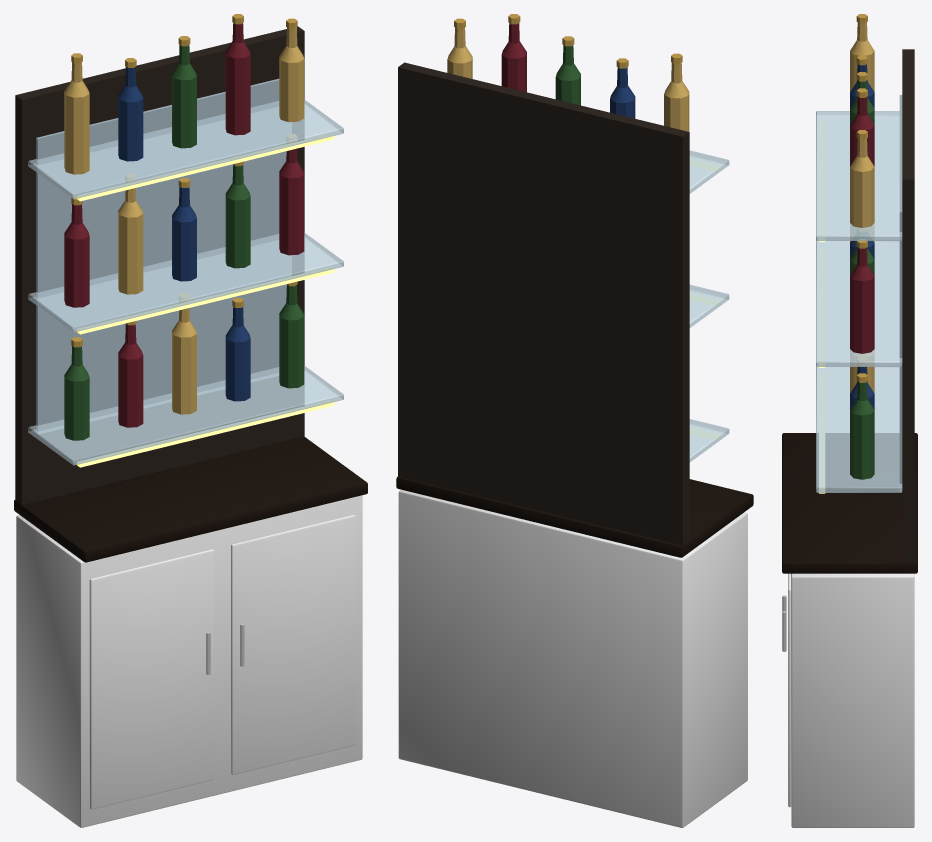
Rendered from back_bar.glb.
3 renders of one model, left to right at view 1: azimuth 30°, elevation 25°; view 2: azimuth 150°, elevation 25°; view 3: azimuth 270°, elevation 25°, orthographic. The views are drawn at different scales.
Visible parts, largest first — view 1: door, mirror, cab, board, shelf, worktop, bn.001, bn.002, bn, bn.003, strip, bc; view 2: board, cab, worktop, shelf, bn.002, bn.001, bn, bn.003; view 3: cab, shelf, worktop, board, bn.002, bn.001, bn, strip, mirror, bn.003, door, bc (+1 smaller).
Boxes of the visible parts, x1,y1,x2,y2 form: door: [89, 514, 355, 809]; mirror: [36, 78, 291, 433]; cab: [16, 495, 362, 827]; board: [15, 26, 304, 505]; shelf: [28, 99, 343, 465]; worktop: [14, 436, 367, 562]; bn.001: [64, 23, 304, 427]; bn.002: [64, 27, 304, 414]; bn: [64, 45, 304, 440]; bn.003: [118, 67, 250, 401]; strip: [77, 134, 334, 467]; bc: [71, 14, 297, 347]; board: [398, 62, 689, 545]; cab: [398, 489, 747, 827]; worktop: [396, 476, 753, 557]; shelf: [689, 150, 729, 462]; bn.002: [447, 27, 689, 131]; bn.001: [501, 23, 526, 92]; bn: [555, 45, 580, 105]; bn.003: [610, 67, 635, 118]; cab: [791, 573, 914, 827]; shelf: [816, 111, 902, 492]; worktop: [782, 433, 917, 573]; board: [902, 49, 914, 563]; bn.002: [850, 22, 874, 393]; bn.001: [850, 97, 874, 353]; bn: [850, 80, 874, 479]; strip: [819, 122, 825, 493]; mirror: [899, 95, 902, 491]; bn.003: [850, 64, 874, 409]; door: [788, 573, 791, 807]; bc: [856, 14, 867, 382].
Bounding box in the file's own units: 1 × 2.49 × 0.44.
